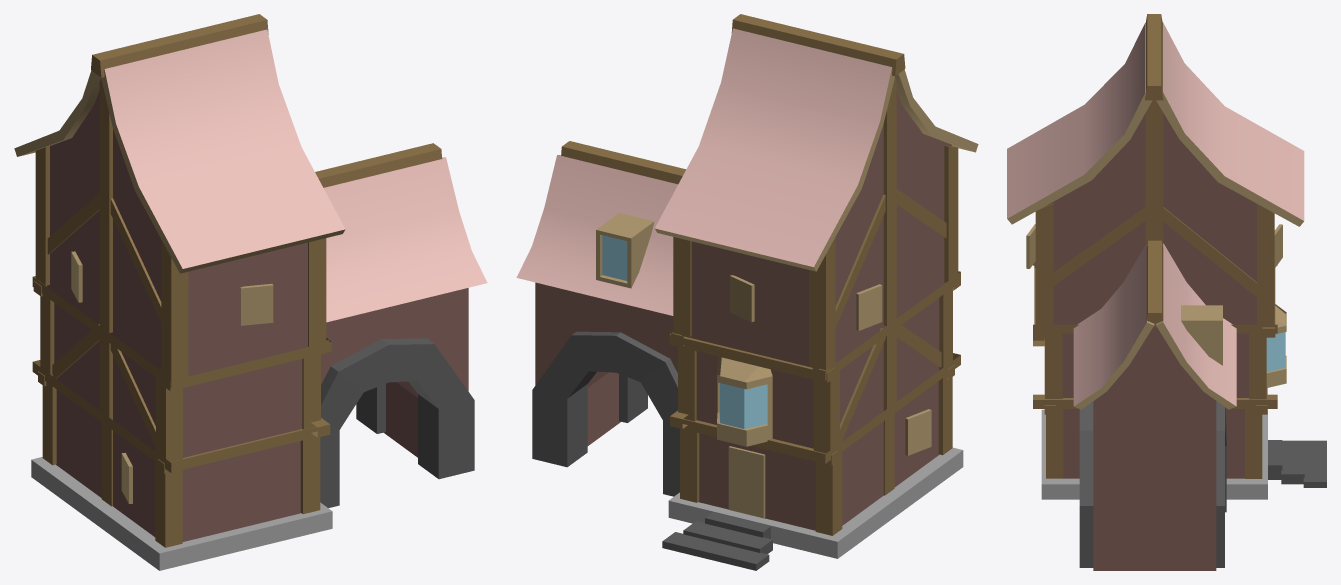
Rendered from House03_LOD_FBX.fbx.
3 views of the same model, side by side, from view 1: azimuth 30°, elevation 25°; view 2: azimuth 150°, elevation 25°; view 3: azimuth 270°, elevation 25° (orthographic). The views are drawn at different scales.
Visible parts, largest first — view 1: LOD_House_03; view 2: LOD_House_03; view 3: LOD_House_03.
Boxes of the visible parts, x1,y1,x2,y2 form: LOD_House_03: [14, 14, 487, 570]; LOD_House_03: [516, 14, 978, 570]; LOD_House_03: [1007, 14, 1326, 570].
Bounding box in the file's own units: 9.63 × 12.39 × 8.73.
